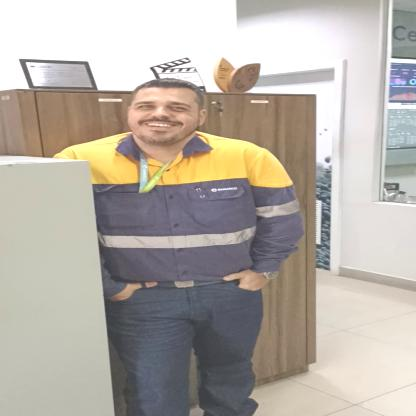Operacional: (44, 126, 308, 282)
